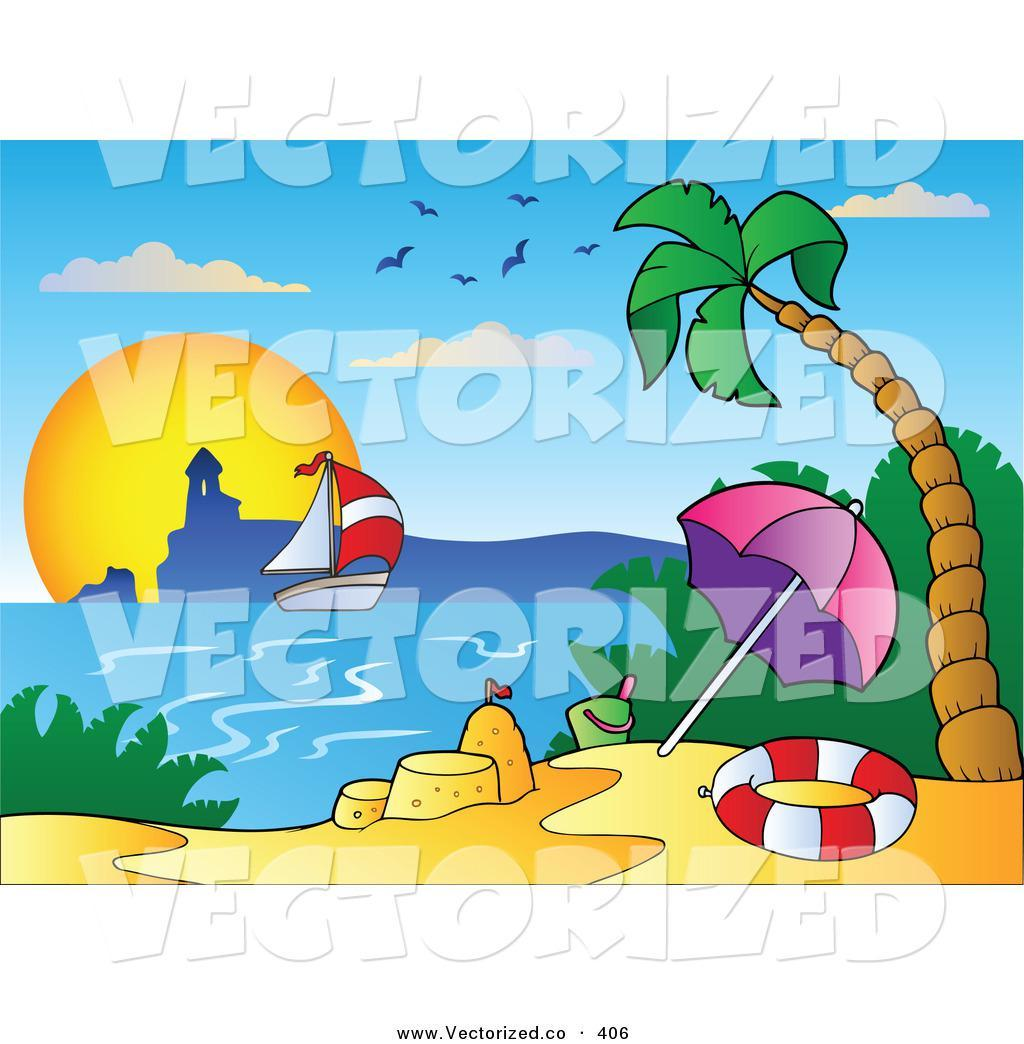boat: (245, 451, 406, 613)
